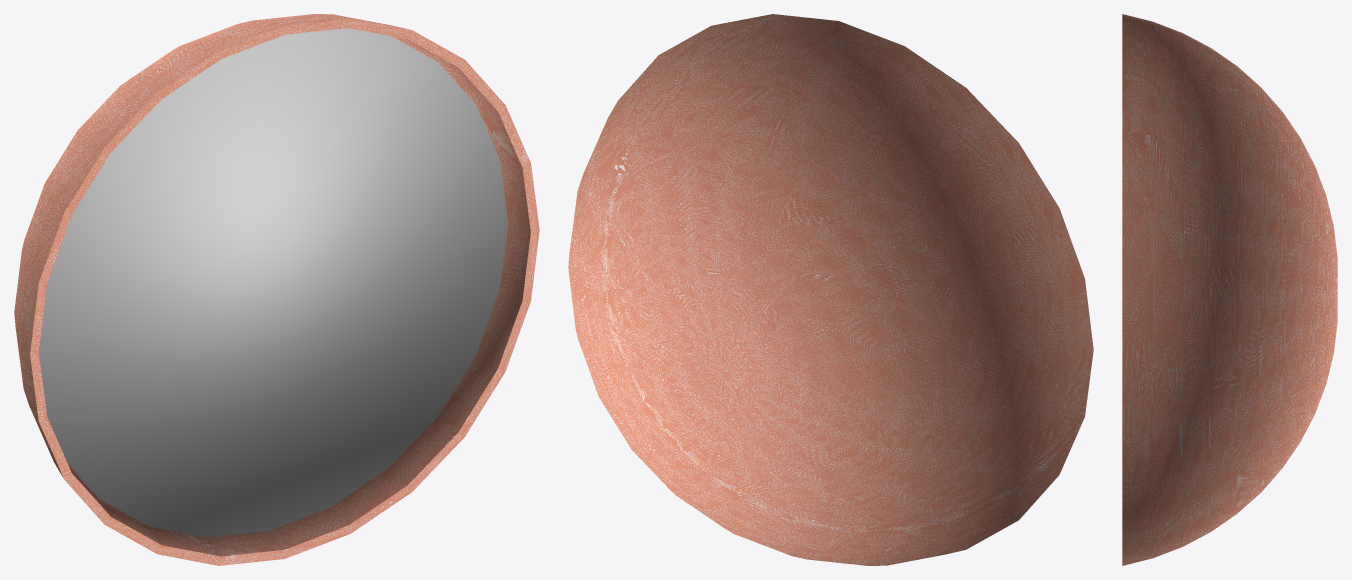
Rendered from model_align.obj.
3 views of the same model, side by side, from view 1: azimuth 30°, elevation 25°; view 2: azimuth 150°, elevation 25°; view 3: azimuth 270°, elevation 25° (orthographic). The views are drawn at different scales.
Parts seen in each view (by area): view 1: mesh1_mesh1-geometry; view 2: mesh1_mesh1-geometry; view 3: mesh1_mesh1-geometry.
Part boxes in pixels (x1=…): mesh1_mesh1-geometry: x1=14, y1=14, x2=539, y2=565; mesh1_mesh1-geometry: x1=568, y1=14, x2=1093, y2=565; mesh1_mesh1-geometry: x1=1122, y1=14, x2=1337, y2=565.
Size of the model in its own units: 0.1468 by 0.1468 by 0.0571.
